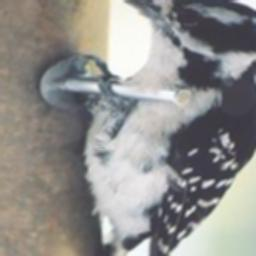Woodpecker: (70, 0, 256, 256)
